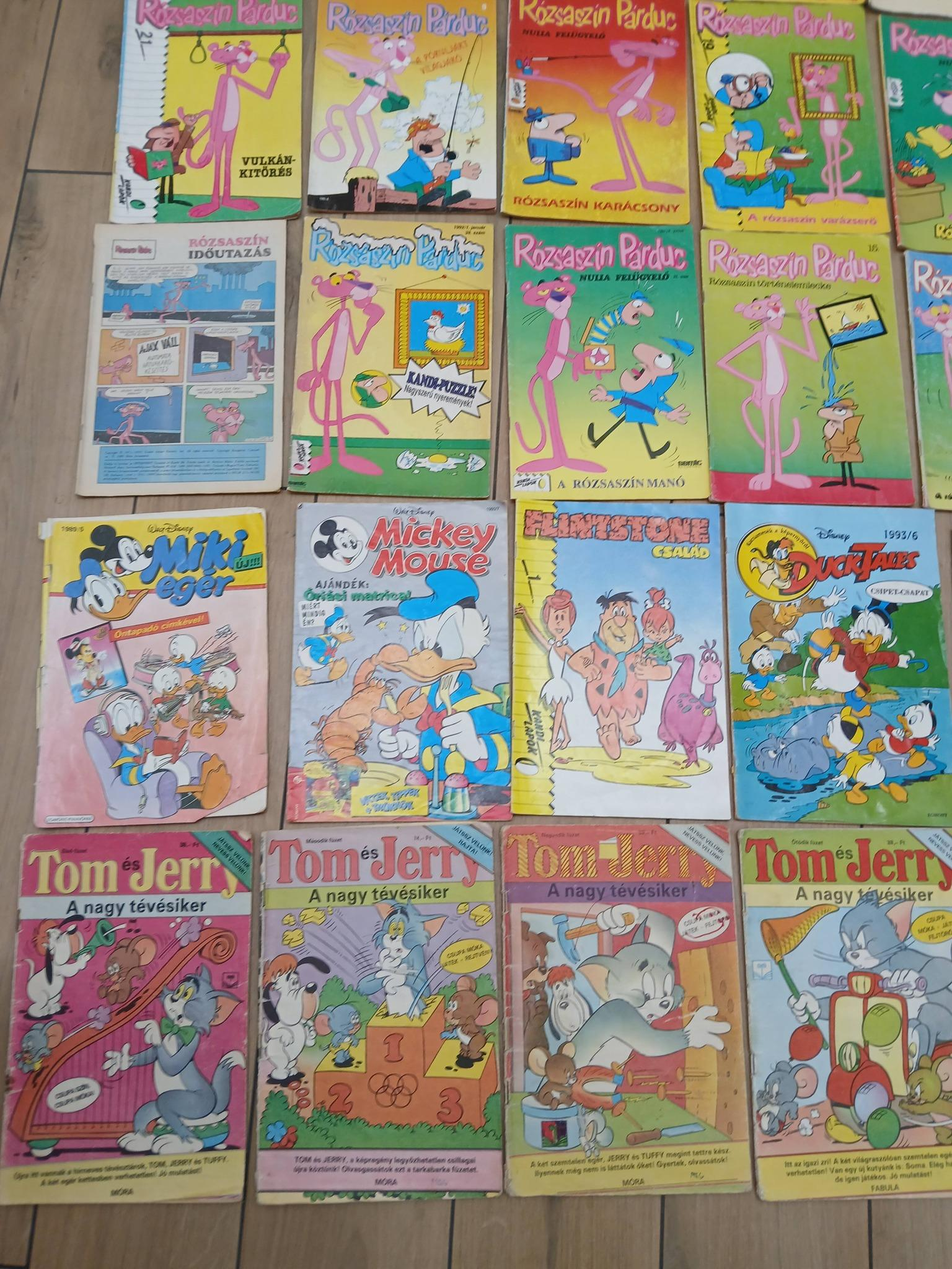comic: (0, 828, 252, 1205), (257, 823, 501, 1203), (504, 823, 750, 1195), (739, 827, 951, 1200), (725, 499, 952, 831), (35, 509, 267, 827), (286, 501, 511, 822), (511, 501, 733, 818), (701, 222, 914, 513), (77, 219, 286, 498), (289, 215, 495, 498), (506, 222, 709, 501), (688, 0, 890, 245), (110, 0, 302, 248), (307, 0, 500, 216), (503, 0, 689, 224)
